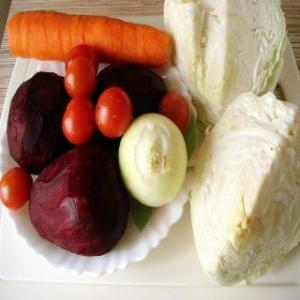beet: (30, 146, 127, 252), (8, 70, 72, 166), (94, 58, 164, 122)
cabbage: (190, 89, 300, 288), (160, 1, 284, 120)
carrot: (6, 12, 174, 68)
onion: (120, 110, 188, 206)
tomato: (92, 84, 133, 138), (0, 158, 32, 214), (57, 96, 95, 142), (156, 87, 192, 131), (62, 56, 98, 97)
